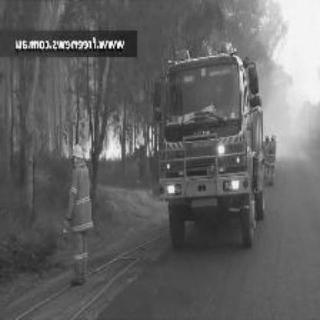Fire: (59, 100, 159, 158)
